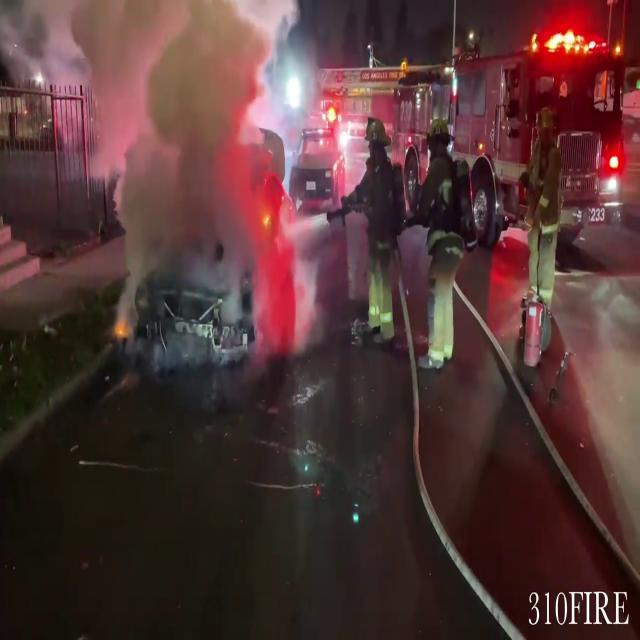Smoke: (111, 0, 282, 349)
